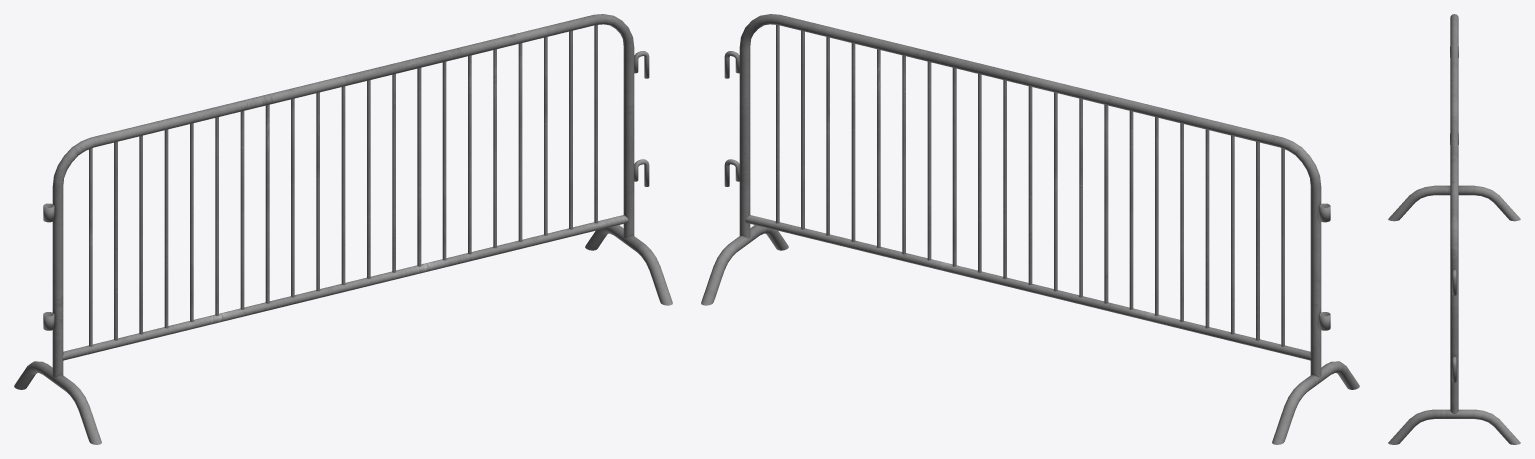
Rendered from fence_barricade_03.glb.
The picture shows the model from 3 angles, left to right: view 1: azimuth 30°, elevation 25°; view 2: azimuth 150°, elevation 25°; view 3: azimuth 270°, elevation 25°; orthographic projection. The views are drawn at different scales.
Parts seen in each view (by area): view 1: Fence-Barricade_03_0; view 2: Fence-Barricade_03_0; view 3: Fence-Barricade_03_0.
Boxes of the visible parts, x1,y1,x2,y2 form: Fence-Barricade_03_0: (14,14,672,444); Fence-Barricade_03_0: (701,14,1359,444); Fence-Barricade_03_0: (1388,14,1520,444).
Bounding box in the file's own units: 2.13 × 0.9008 × 0.5038.
1 material, 1 textured.
